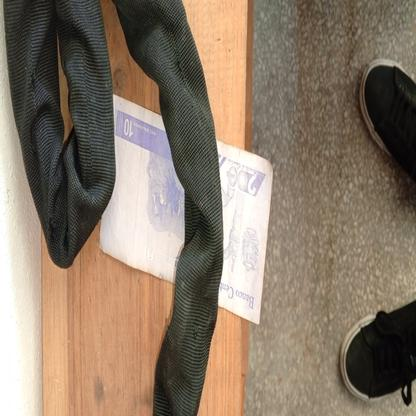ten-back-vef: (96, 93, 272, 326)
